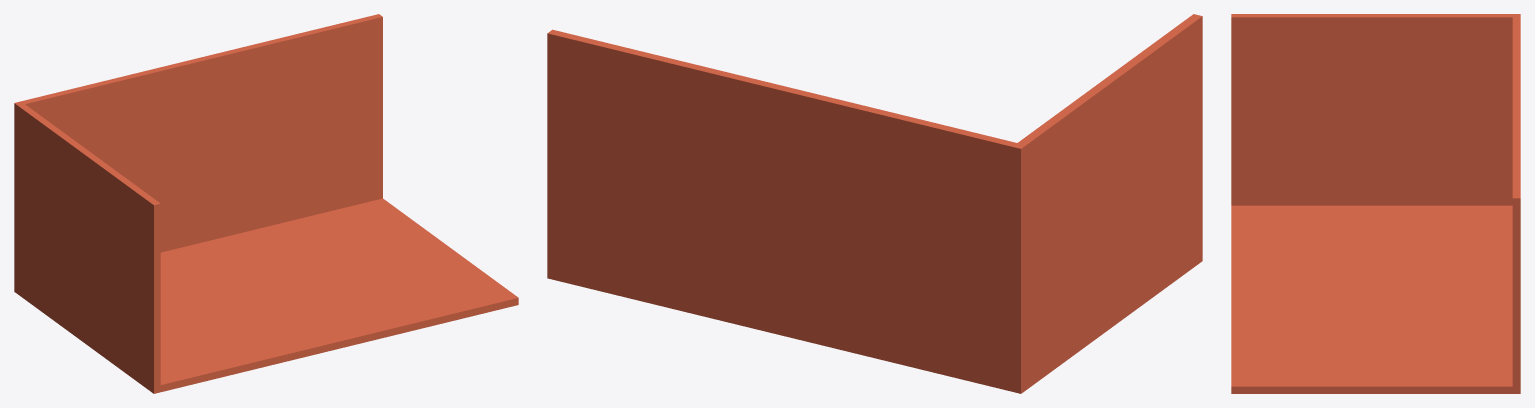
Rendered from sample.glb.
3 renders of one model, left to right at view 1: azimuth 30°, elevation 25°; view 2: azimuth 150°, elevation 25°; view 3: azimuth 270°, elevation 25°, orthographic. The views are drawn at different scales.
Visible parts, largest first — view 1: Cube; view 2: Cube; view 3: Cube.
Boxes of the visible parts, x1=… form: Cube: x1=14, y1=14, x2=518, y2=393; Cube: x1=547, y1=14, x2=1202, y2=393; Cube: x1=1231, y1=14, x2=1520, y2=393.
Size of the model in its own units: 9.34 by 4.62 by 6.2.
